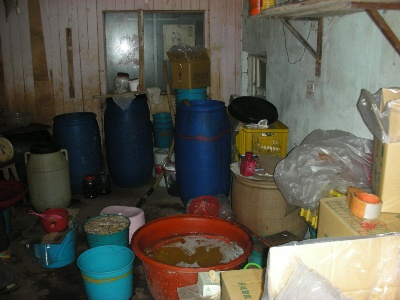bottle: (239, 150, 257, 177), (113, 71, 130, 94), (83, 176, 99, 199)
bowl: (130, 215, 252, 300), (39, 206, 68, 234), (3, 111, 33, 127)
box: (167, 52, 211, 90)
bucket: (174, 99, 230, 207), (102, 96, 153, 188), (52, 111, 103, 194), (22, 144, 71, 213), (75, 244, 135, 300), (152, 125, 172, 147)
plastic_bag: (278, 130, 372, 190)
plate: (227, 96, 280, 124)
